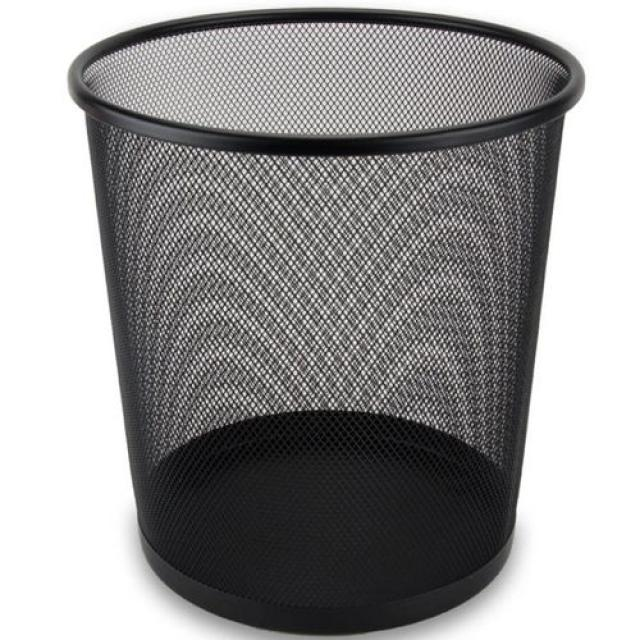dustbin: (54, 0, 593, 637)
